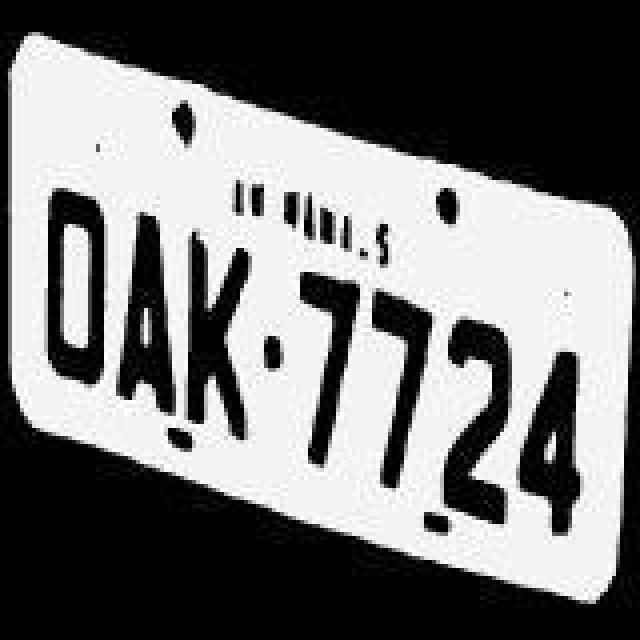2: (436, 308, 516, 532)
4: (518, 346, 586, 550)
7: (364, 282, 436, 502), (290, 264, 366, 472)
A: (112, 206, 184, 418)
K: (176, 226, 256, 446)
O: (30, 178, 114, 398)
